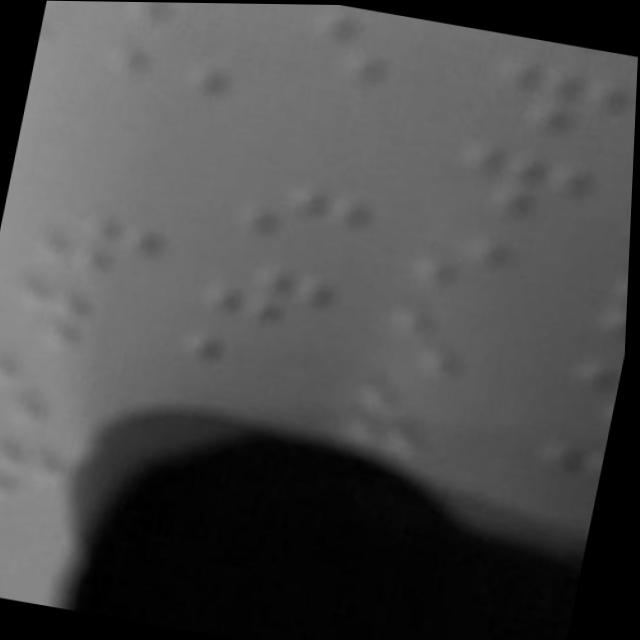braiile: (403, 212, 570, 309), (471, 45, 633, 142), (443, 134, 600, 233), (0, 276, 153, 374), (373, 296, 529, 392), (297, 5, 443, 97), (97, 42, 236, 138), (24, 203, 173, 292), (233, 169, 379, 255), (204, 252, 345, 339), (123, 1, 252, 45)
